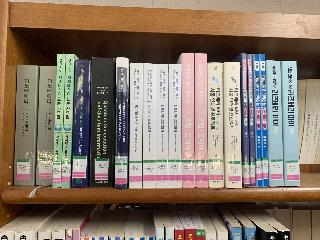book-spine: (89, 58, 114, 188), (14, 65, 37, 186), (35, 66, 57, 186), (72, 59, 91, 187), (282, 61, 300, 186), (225, 61, 242, 188), (267, 60, 284, 187), (207, 62, 224, 188), (114, 57, 129, 189), (52, 54, 66, 188), (194, 53, 208, 187), (182, 53, 195, 188), (129, 63, 143, 188), (61, 54, 74, 188), (143, 63, 156, 188), (156, 64, 169, 188), (169, 64, 182, 188), (241, 53, 250, 187), (248, 54, 256, 187), (254, 54, 262, 187), (260, 54, 268, 187)
